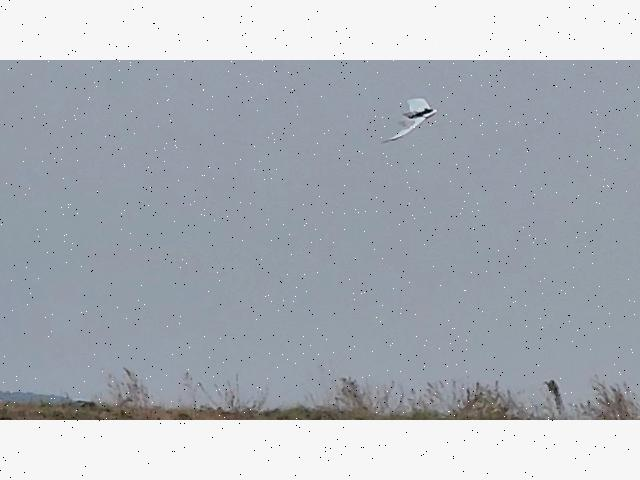Anti-Drone: (379, 97, 437, 145)
